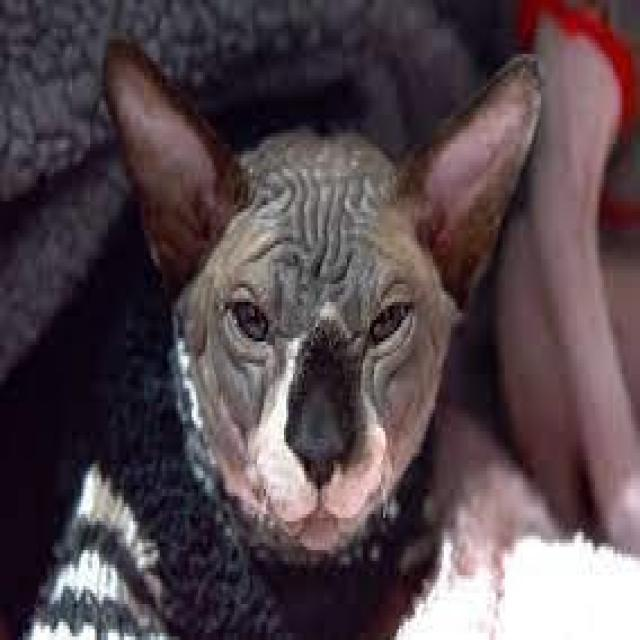Cat: (97, 34, 551, 576)
